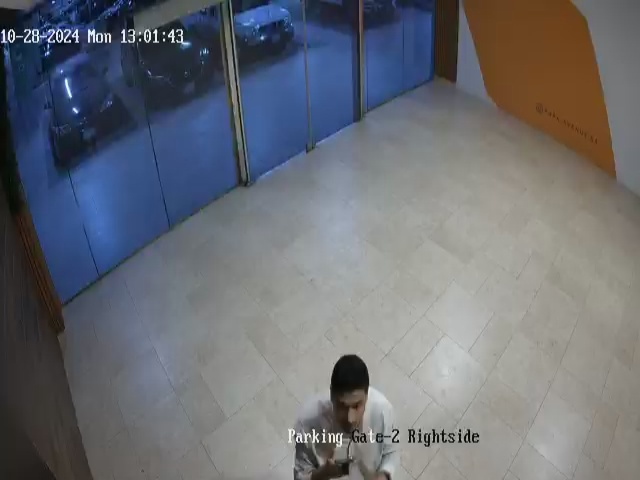male: (292, 354, 401, 480)
